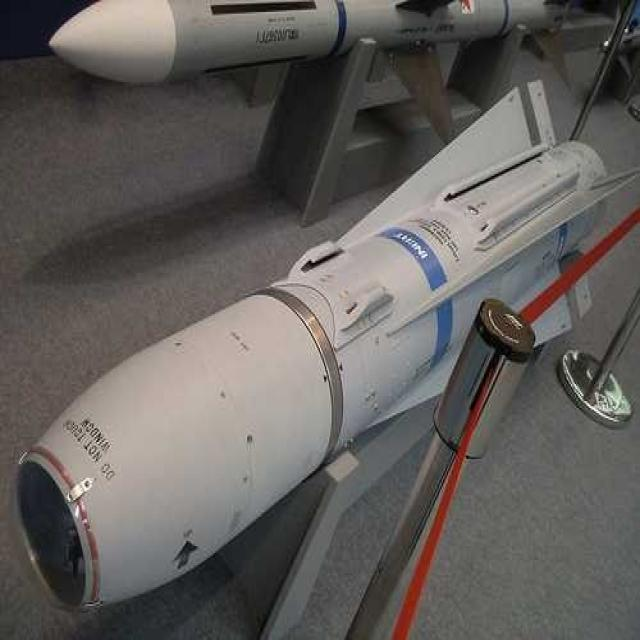missile: (17, 90, 609, 607)
